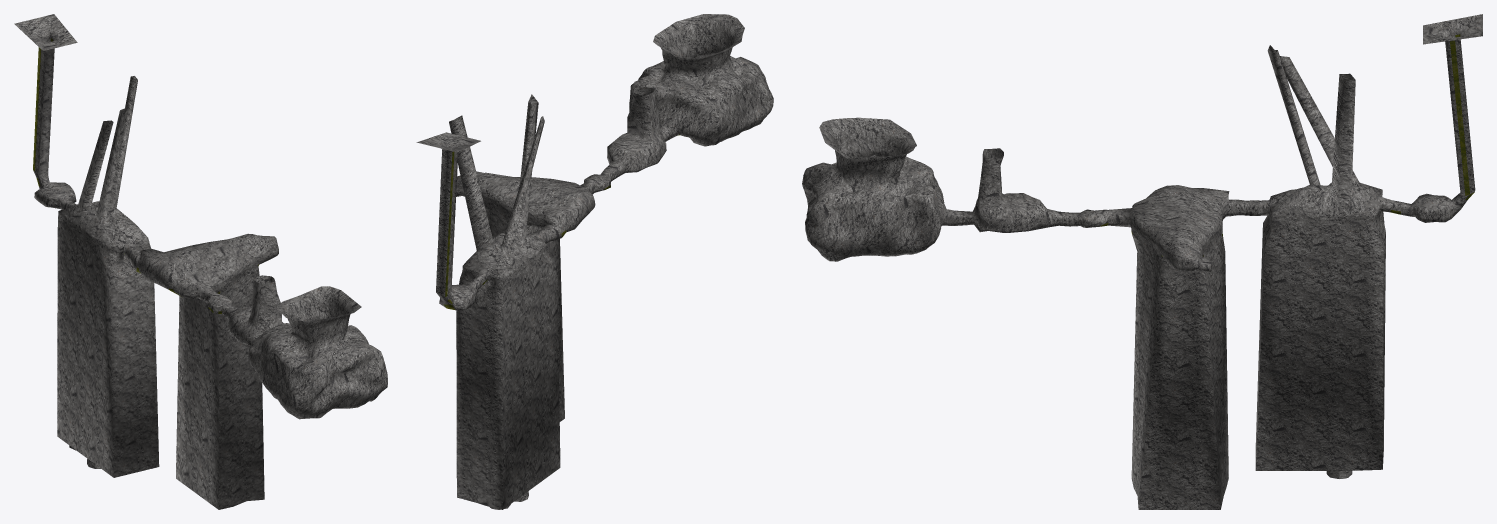
File: caveV3_BLOCKOUT.glb
3 views of the same model, side by side, from view 1: azimuth 30°, elevation 25°; view 2: azimuth 150°, elevation 25°; view 3: azimuth 270°, elevation 25° (orthographic). The views are drawn at different scales.
Parts seen in each view (by area): view 1: Cube.015; view 2: Cube.015; view 3: Cube.015.
Part boxes in pixels (x1,y1,x2,y2): Cube.015: [14, 14, 387, 509]; Cube.015: [416, 14, 773, 509]; Cube.015: [802, 14, 1482, 509].
Size of the model in its own units: 97.47 by 246 by 341.
3 materials, 3 textured.
